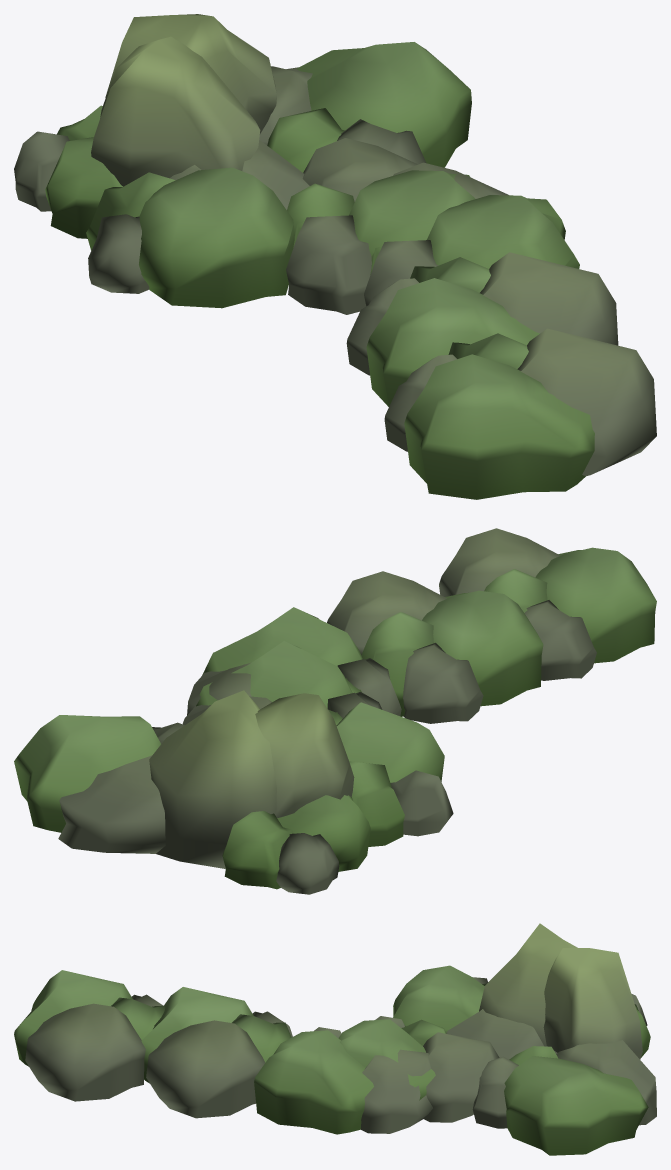
Rendered from BoardWalkLargeBrush2.fbx.
3 renders of one model, top to bottom at view 1: azimuth 30°, elevation 25°; view 2: azimuth 150°, elevation 25°; view 3: azimuth 270°, elevation 25°, orthographic. The views are drawn at different scales.
Visible parts, largest first — view 1: LargerBushGroup_02; view 2: LargerBushGroup_02; view 3: LargerBushGroup_02.
Boxes of the visible parts, <box> form: LargerBushGroup_02: <box>14,14,656,499</box>; LargerBushGroup_02: <box>14,528,656,894</box>; LargerBushGroup_02: <box>14,923,656,1155</box>.
Bounding box in the file's own units: 6.81 × 2.61 × 12.53.
